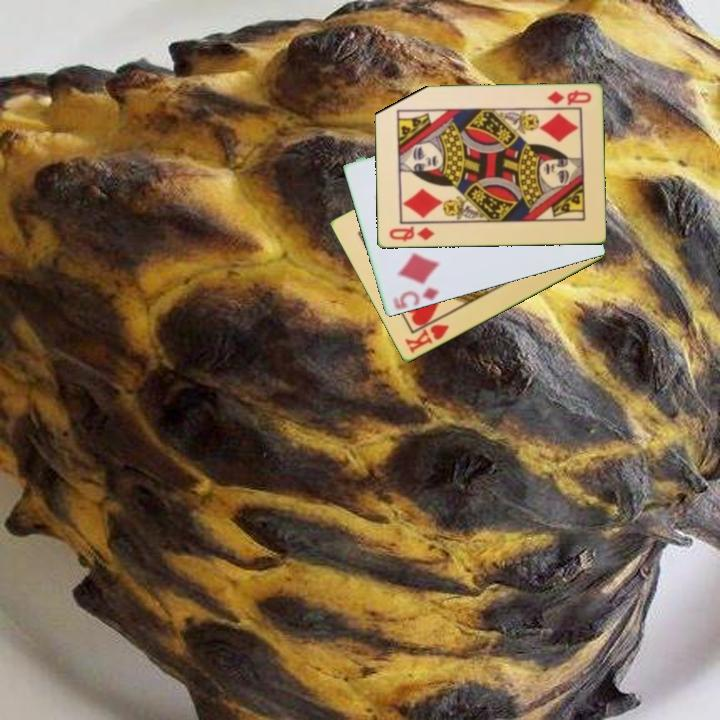5d: (389, 284, 442, 313)
Kh: (401, 313, 452, 357)
Qd: (544, 87, 594, 109), (386, 223, 437, 244)
